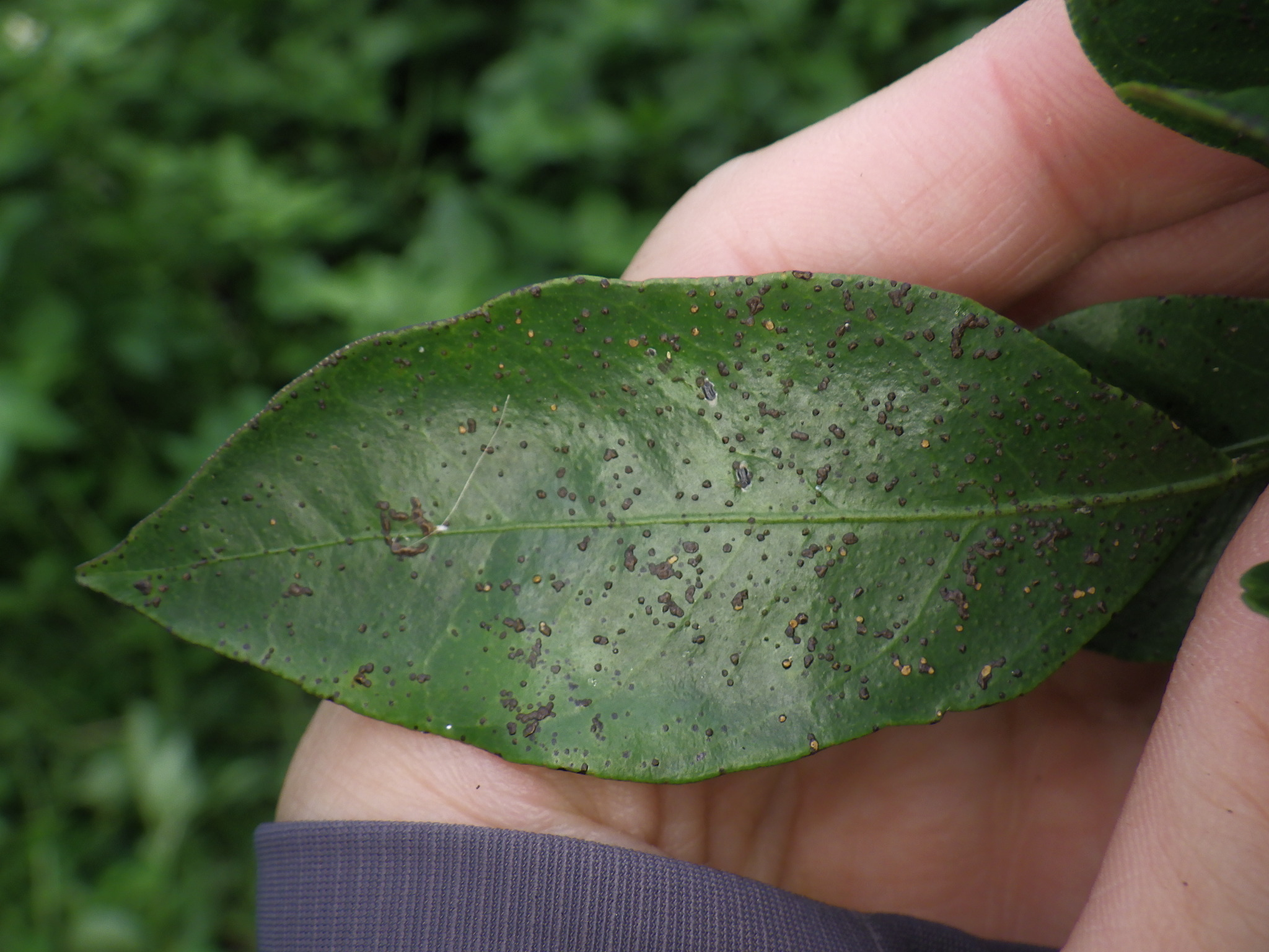Black_Spot: (77, 271, 1258, 780)
